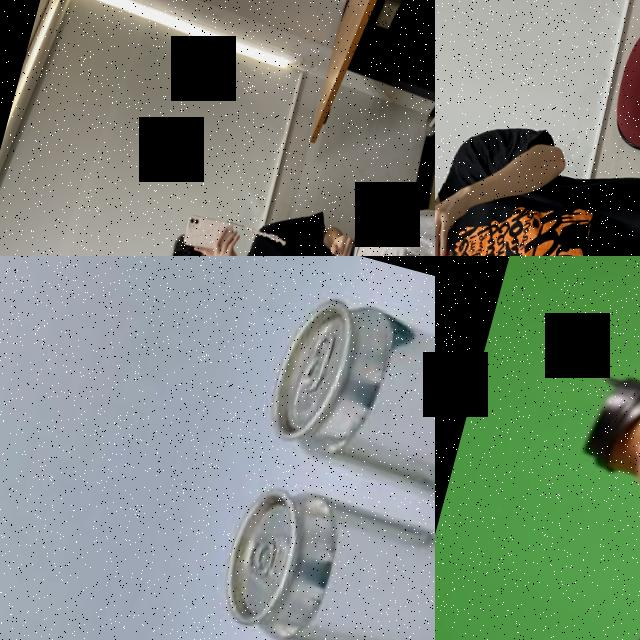can: (252, 284, 435, 516), (205, 470, 435, 640)
cup: (578, 361, 640, 542)
